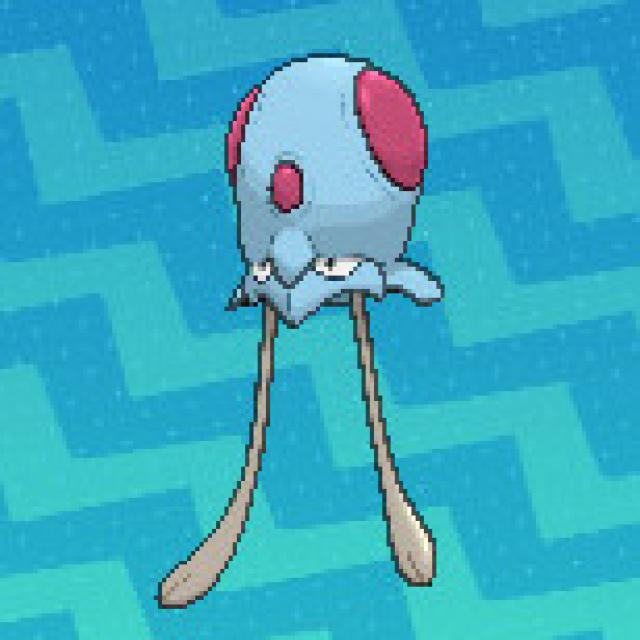Tentacool: (186, 51, 468, 431)
